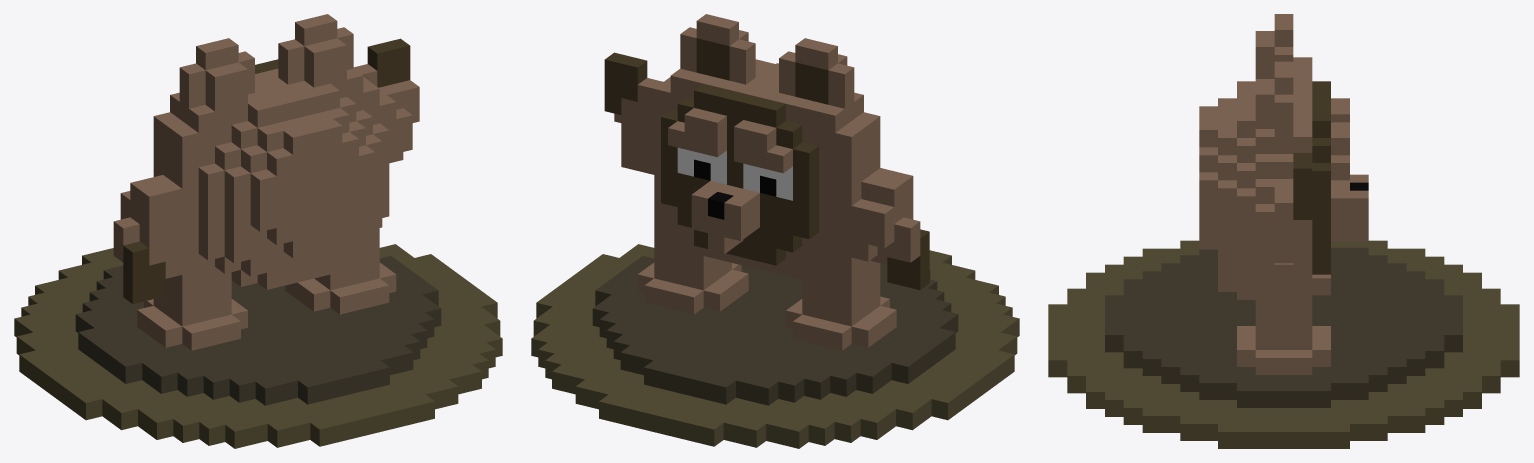
File: figure_2.glb
3 views of the same model, side by side, from view 1: azimuth 30°, elevation 25°; view 2: azimuth 150°, elevation 25°; view 3: azimuth 270°, elevation 25° (orthographic).
Visible parts, largest first — view 1: codebear_2; view 2: codebear_2; view 3: codebear_2.
Part boxes in pixels (<box>): codebear_2: <box>14,14,502,448</box>; codebear_2: <box>531,14,1019,448</box>; codebear_2: <box>1048,14,1519,448</box>.
Bounding box in the file's own units: 2.5 × 1.8 × 2.5.
1 material, 1 textured.
